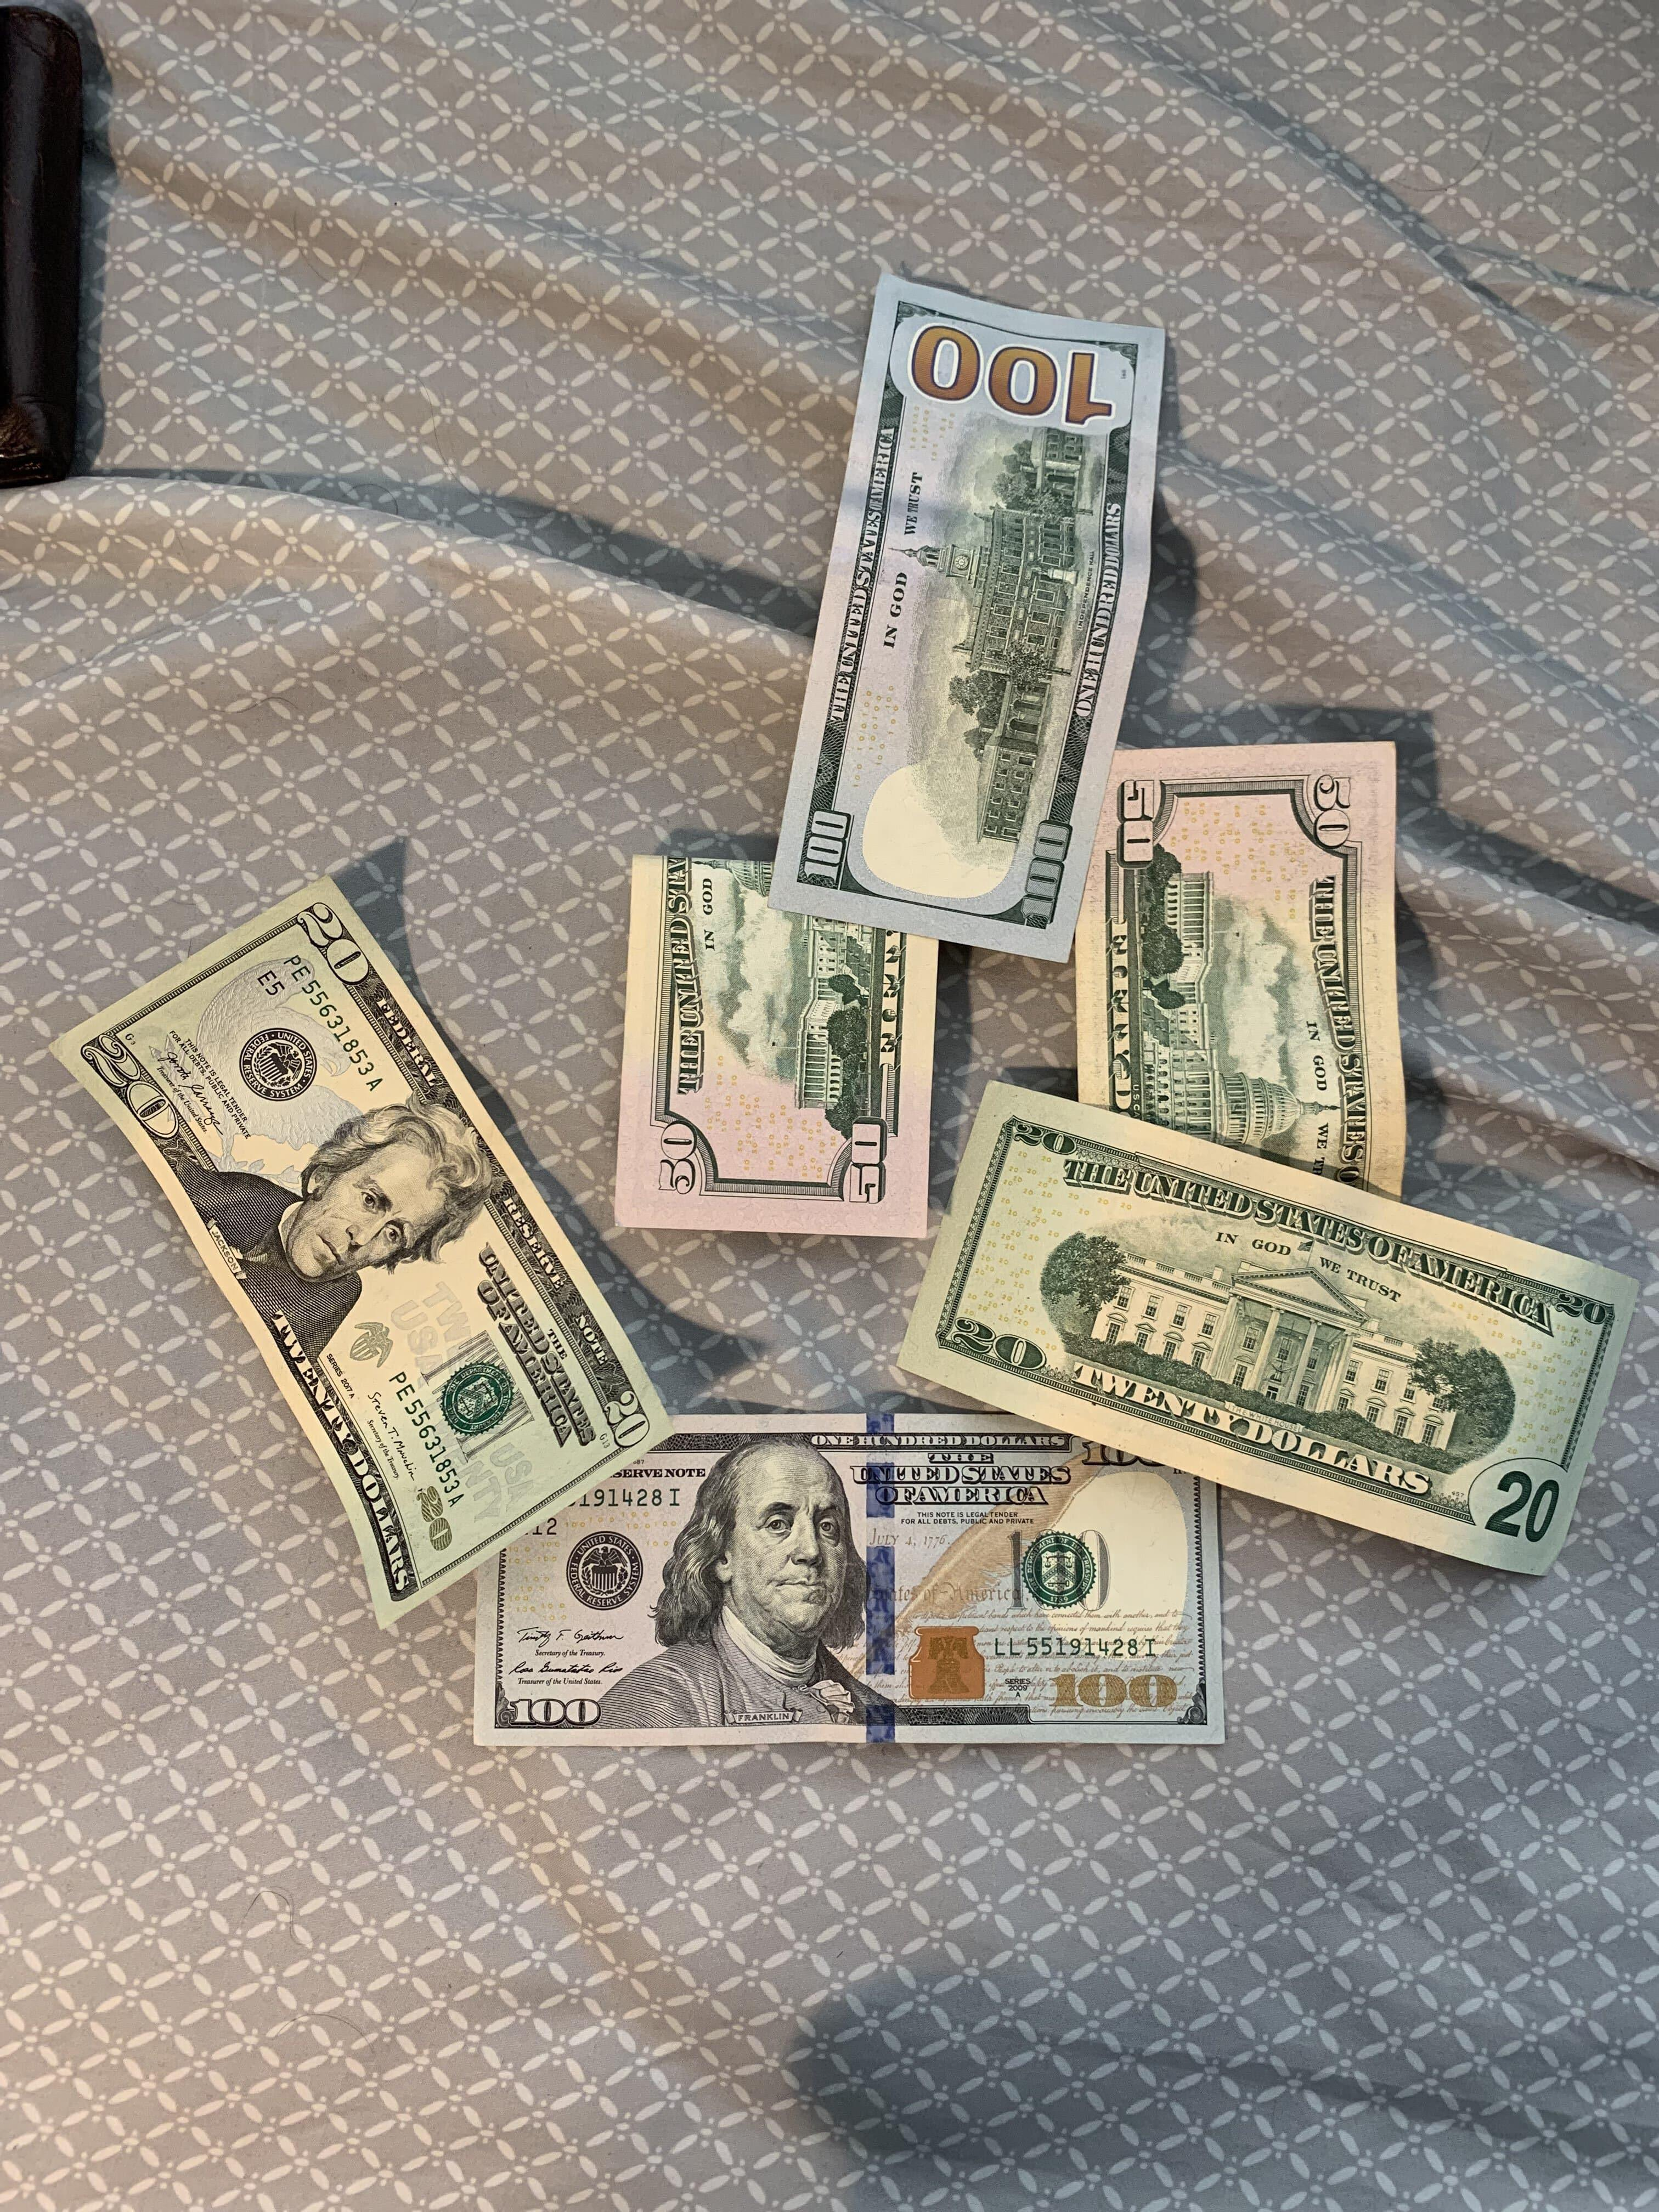FiftyBill: (1042, 707, 1432, 1244), (591, 829, 948, 1282)
HundredBill: (720, 235, 1211, 988), (432, 1376, 1291, 1785)
TwentyBill: (42, 862, 687, 1634), (892, 1061, 1656, 1609)
